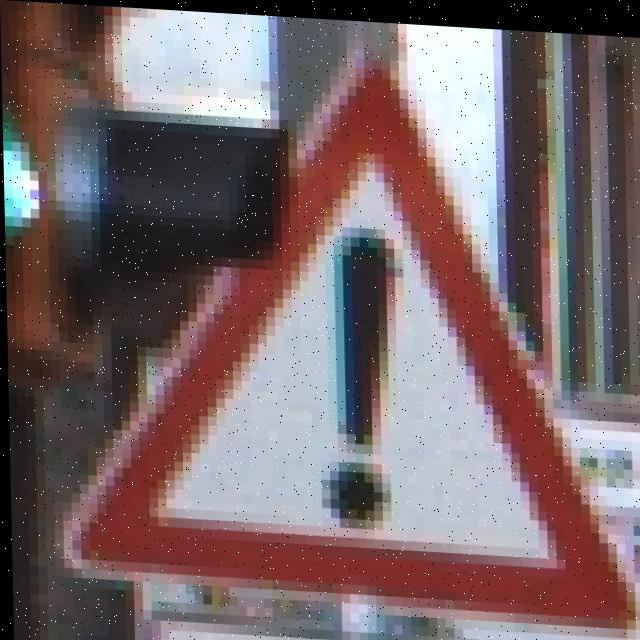warning: (94, 109, 621, 639)
